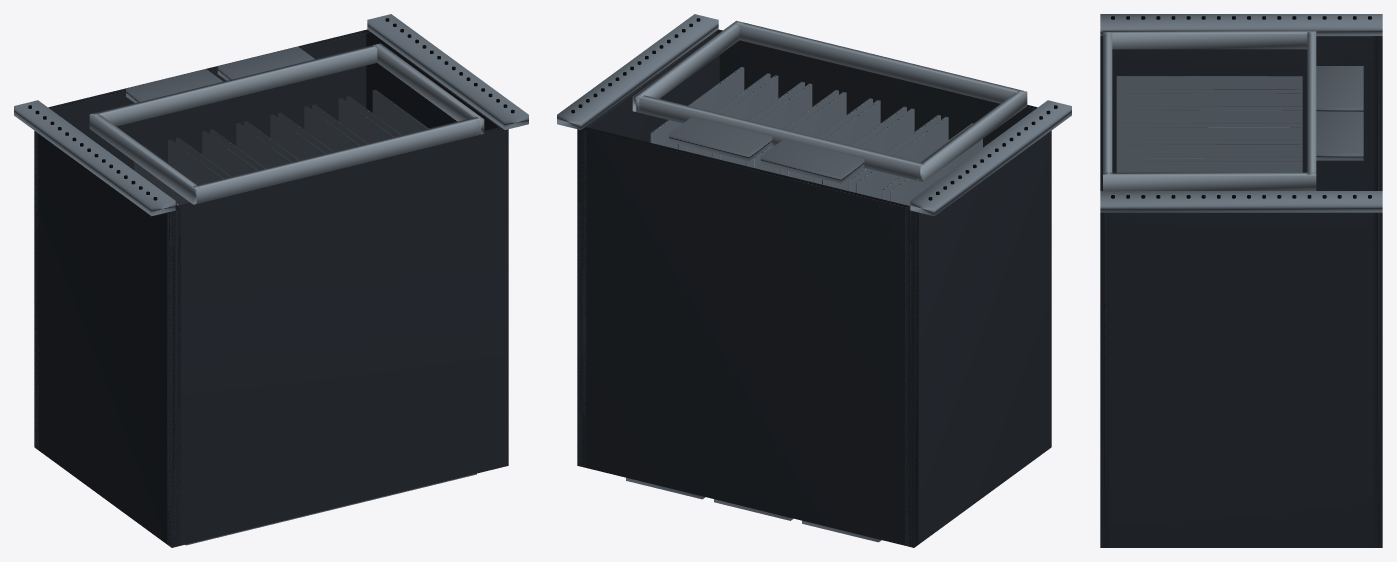
File: core_switch_chassis_8slot.glb
The picture shows the model from 3 angles, left to right: view 1: azimuth 30°, elevation 25°; view 2: azimuth 150°, elevation 25°; view 3: azimuth 270°, elevation 25°; orthographic projection. The views are drawn at different scales.
Parts seen in each view (by area): view 1: chassis_top, chassis_left, chassis_bottom, service_top_rail, service_bottom_rail, rack_ear_left, rack_ear_right, chassis_right, service_left_rail, service_right_rail, SUP_2_BAY, SUP_1_BAY (+7 smaller); view 2: chassis_bottom, chassis_left, chassis_top, chassis_right, service_top_rail, rack_ear_left, rack_ear_right, service_bottom_rail, SUP_1_BAY, SUP_2_BAY, service_left_rail, service_right_rail (+9 smaller); view 3: chassis_right, chassis_left, rack_ear_right, rack_ear_left, chassis_bottom, service_right_rail, service_left_rail, chassis_top, slot_03_guide_left, slot_04_guide_left, slot_05_guide_left, slot_01_guide_left (+11 smaller).
Boxes of the visible parts, bbox=[...] form: chassis_top: bbox=[167, 127, 508, 547]; chassis_left: bbox=[34, 131, 180, 547]; chassis_bottom: bbox=[34, 29, 370, 449]; service_top_rail: bbox=[193, 117, 481, 203]; service_bottom_rail: bbox=[93, 45, 377, 126]; rack_ear_left: bbox=[14, 100, 175, 216]; rack_ear_right: bbox=[367, 14, 528, 129]; chassis_right: bbox=[363, 30, 508, 465]; service_left_rail: bbox=[89, 113, 200, 204]; service_right_rail: bbox=[373, 43, 484, 134]; SUP_2_BAY: bbox=[217, 46, 314, 80]; SUP_1_BAY: bbox=[126, 69, 222, 102]; chassis_bottom: bbox=[577, 127, 918, 547]; chassis_left: bbox=[905, 131, 1051, 547]; chassis_top: bbox=[714, 29, 1051, 447]; chassis_right: bbox=[577, 30, 721, 466]; service_top_rail: bbox=[735, 21, 1023, 103]; rack_ear_left: bbox=[910, 100, 1071, 216]; rack_ear_right: bbox=[557, 14, 718, 129]; service_bottom_rail: bbox=[635, 95, 924, 181]; SUP_1_BAY: bbox=[760, 139, 864, 183]; SUP_2_BAY: bbox=[669, 117, 772, 160]; service_left_rail: bbox=[917, 90, 1027, 181]; service_right_rail: bbox=[632, 20, 742, 111]; chassis_right: bbox=[1100, 212, 1382, 547]; chassis_left: bbox=[1100, 36, 1382, 190]; rack_ear_right: bbox=[1100, 191, 1382, 212]; rack_ear_left: bbox=[1100, 14, 1382, 35]; chassis_bottom: bbox=[1373, 36, 1382, 547]; service_right_rail: bbox=[1103, 172, 1316, 190]; service_left_rail: bbox=[1103, 30, 1316, 49]; chassis_top: bbox=[1100, 36, 1109, 547]; slot_03_guide_left: bbox=[1116, 110, 1302, 123]; slot_04_guide_left: bbox=[1116, 127, 1302, 140]; slot_05_guide_left: bbox=[1116, 144, 1302, 157]; slot_01_guide_left: bbox=[1116, 76, 1302, 88].
Bounding box in the file's own units: 0.4926 × 0.45 × 0.3112.
